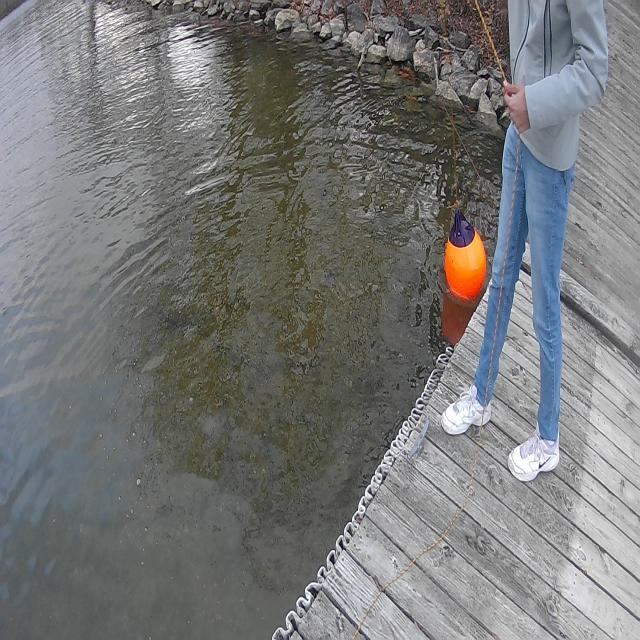Buoy: (438, 202, 490, 308)
